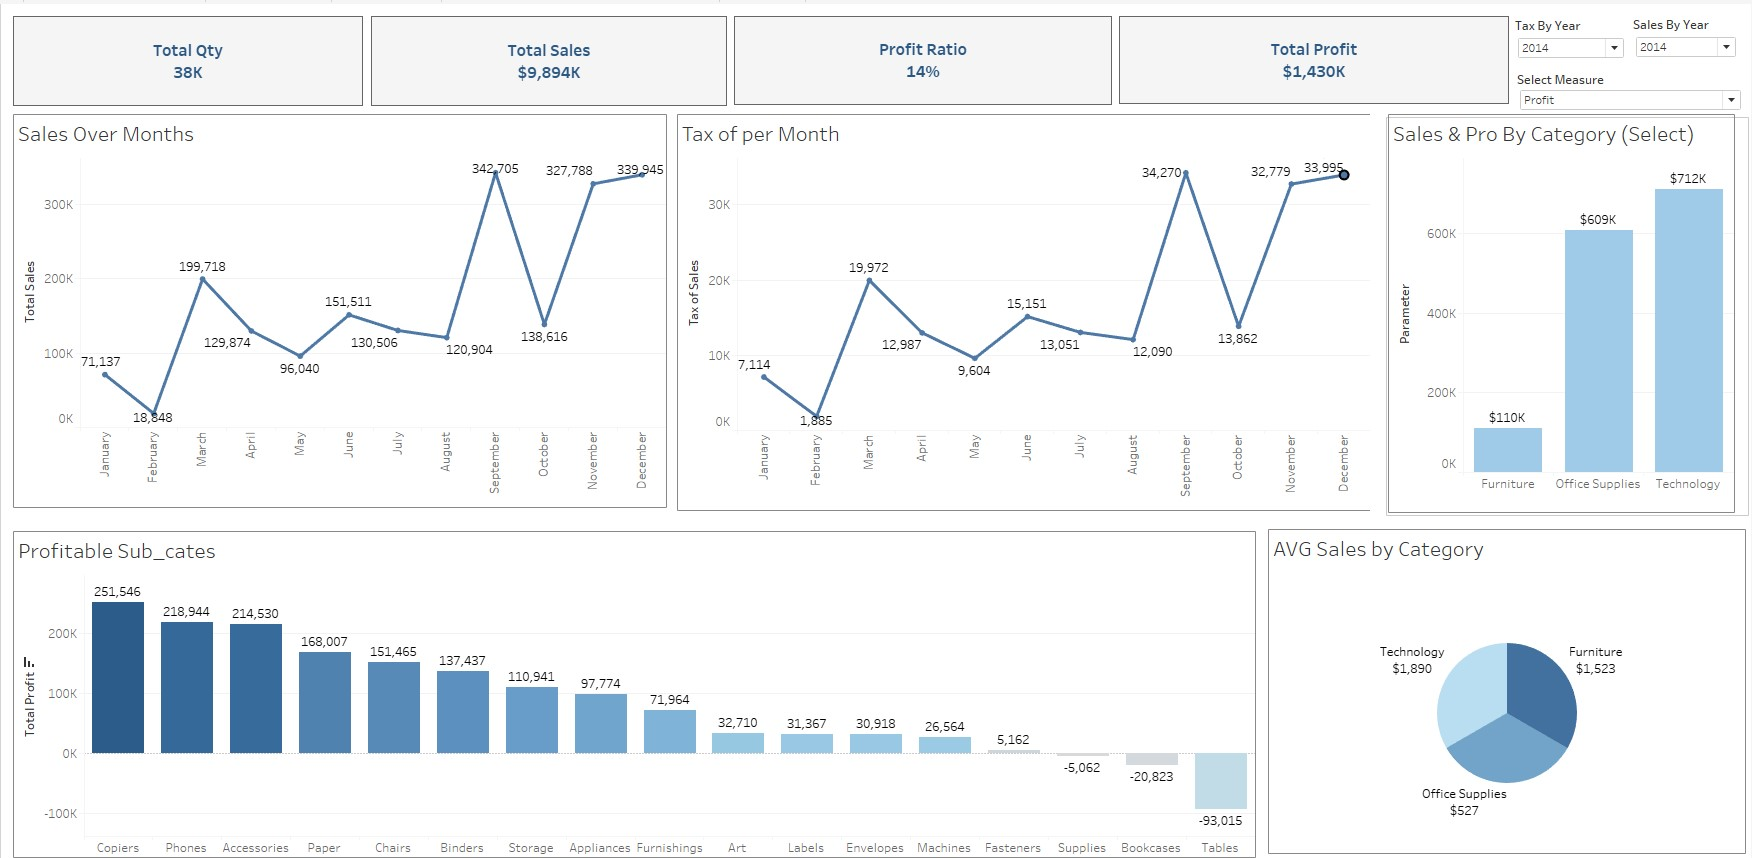

Layout of this report page (visuals, bound fields, positions):
{"tool":"tableau","page":{"name":"Dashboard 1","canvas":[1000,1000],"units":"permille","ordinal":0},"visuals":[{"type":"worksheet","title":"Total Qty","mark":"Automatic","box":[4.7,9.3,204.2,114.6]},{"type":"worksheet","title":"Total sales","mark":"Text","box":[208.9,9.3,207.2,114.6]},{"type":"filter","title":"Sales Over Months","param":"[federated.1rbusii123s4gb15o1lav0lehao4].[yr:Order Date:ok]","box":[928,9.3,67.3,114.6]},{"type":"worksheet","title":"Pro_Rat","mark":"Automatic","box":[419.1,13.9,216.1,105.3]},{"type":"worksheet","title":"Total Pro","mark":"Automatic","box":[638.7,13.9,223.1,104.2]},{"type":"filter","title":"Tax of per Month","param":"[federated.1rbusii123s4gb15o1lav0lehao4].[yr:Order Date:ok]","box":[865.4,15.1,63.8,108.8]},{"type":"parameter","param":"[Parameters].[Parameter 1]","box":[866,77.5,129.9,47.5]},{"type":"worksheet","title":"Sales Over Months","mark":"Line","rows":["Calculation_1577667261106221056"],"cols":["Order Date"],"box":[4.7,123.8,377.2,468.8]},{"type":"worksheet","title":"Tax of per Month","mark":"Automatic","rows":["Calculation_1577667261250854916"],"cols":["Order Date"],"box":[392.6,133.1,396.1,463]},{"type":"worksheet","title":"Sales & Pro By Category (Select)","mark":"Automatic","rows":["Calculation_733242331910565889"],"cols":["Category"],"box":[791.6,133.1,201.9,466.4]},{"type":"blank","box":[4.7,592.6,923.3,398.2]},{"type":"worksheet","title":"Profitable Sub_cates","mark":"Automatic","rows":["Calculation_1577667261106524161"],"cols":["Sub-Category"],"box":[3.5,601.9,710.1,381.9]},{"type":"worksheet","title":"AVG Sales by Category","mark":"Pie","box":[720.8,607.6,276.3,383.1]}]}

Visuals, with their boxes on the dashboard's canvas, which has no fixed pixel size, in thousandths of its width and height (x1, y1, x2, y2). These are canvas units, not pixel positions in the 1752x858 screenshot, which may show the page scaled, cropped or inside an application window:
"Total Qty" worksheet: (x1=5, y1=9, x2=209, y2=124)
"Total sales" worksheet (Text marks): (x1=209, y1=9, x2=416, y2=124)
"Sales Over Months" filter: (x1=928, y1=9, x2=995, y2=124)
"Pro_Rat" worksheet: (x1=419, y1=14, x2=635, y2=119)
"Total Pro" worksheet: (x1=639, y1=14, x2=862, y2=118)
"Tax of per Month" filter: (x1=865, y1=15, x2=929, y2=124)
parameter: (x1=866, y1=78, x2=996, y2=125)
"Sales Over Months" worksheet (Line marks): (x1=5, y1=124, x2=382, y2=593)
"Tax of per Month" worksheet: (x1=393, y1=133, x2=789, y2=596)
"Sales & Pro By Category (Select)" worksheet: (x1=792, y1=133, x2=994, y2=600)
blank: (x1=5, y1=593, x2=928, y2=991)
"Profitable Sub_cates" worksheet: (x1=4, y1=602, x2=714, y2=984)
"AVG Sales by Category" worksheet (Pie marks): (x1=721, y1=608, x2=997, y2=991)
